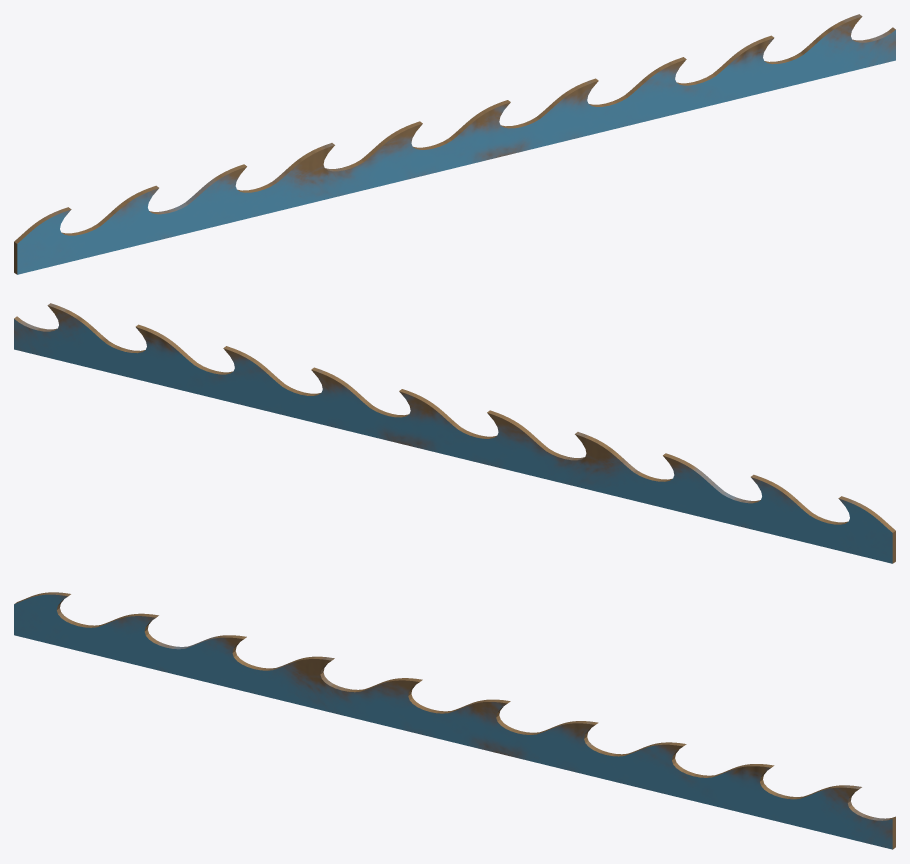
The model's file is cardboard_water.fbx.
3 views of the same model, one above another, from view 1: azimuth 30°, elevation 25°; view 2: azimuth 150°, elevation 25°; view 3: azimuth 330°, elevation 25° (orthographic).
Parts seen in each view (by area): view 1: BezierCurve; view 2: BezierCurve; view 3: BezierCurve.
Part boxes in pixels (box(x1,y1,x2,y2)): BezierCurve: box(14, 14, 895, 274); BezierCurve: box(14, 303, 895, 563); BezierCurve: box(14, 592, 895, 849).
Bounding box in the file's own units: 12.67 × 0.7196 × 0.0794.
Materials: 1 (1 with a texture image).
